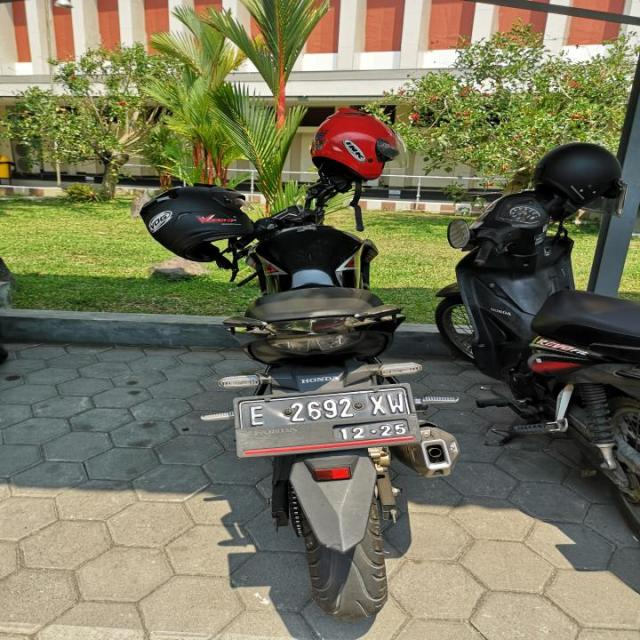License Plate: (237, 382, 413, 452)
